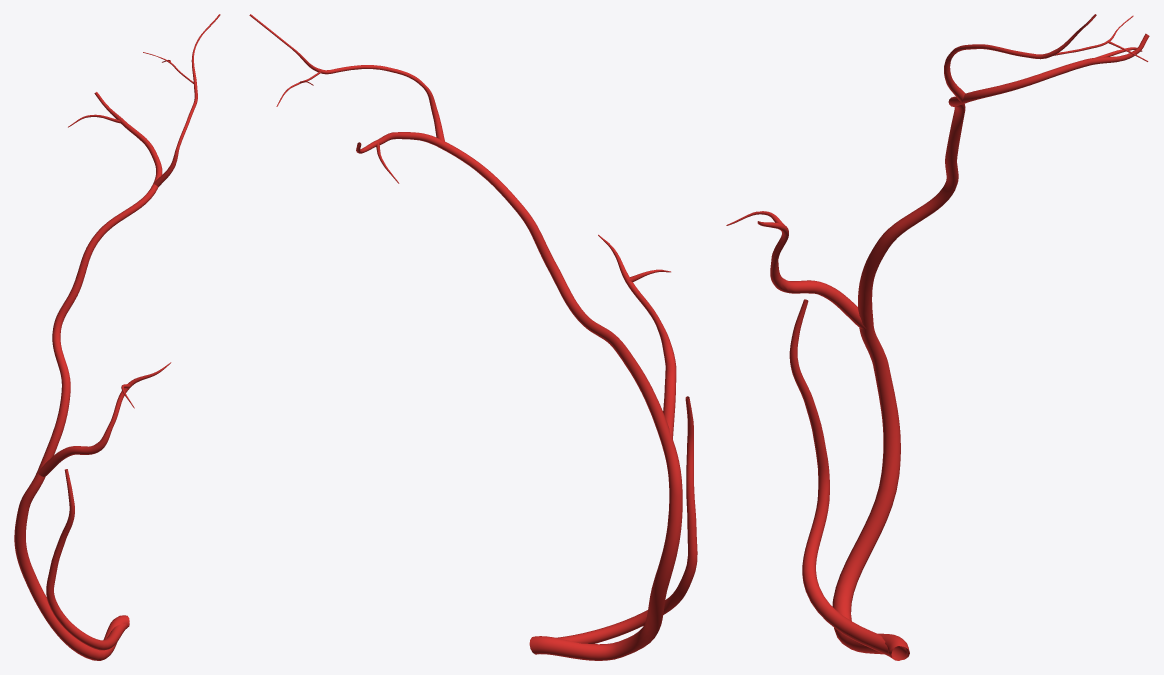
Rendered from circulatorio-artery-of-precentral-sulcus-r.glb.
The picture shows the model from 3 angles, left to right: view 1: azimuth 30°, elevation 25°; view 2: azimuth 150°, elevation 25°; view 3: azimuth 270°, elevation 25°; orthographic projection. The views are drawn at different scales.
Visible parts, largest first — view 1: Artery of precentral sulcus.r; view 2: Artery of precentral sulcus.r; view 3: Artery of precentral sulcus.r.
Part boxes in pixels (x1=…): Artery of precentral sulcus.r: x1=14, y1=14, x2=220, y2=660; Artery of precentral sulcus.r: x1=249, y1=14, x2=697, y2=660; Artery of precentral sulcus.r: x1=726, y1=14, x2=1149, y2=660.
Bounding box in the file's own units: 0.0385 × 0.071 × 0.0351.
